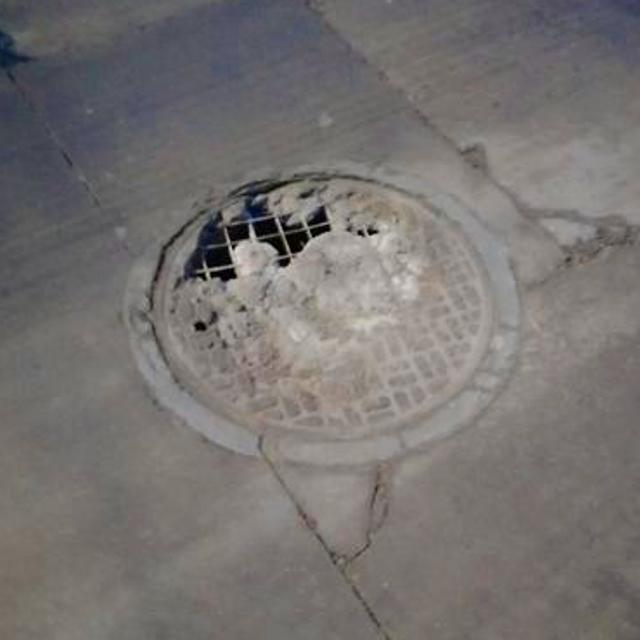broke: (118, 146, 534, 460)
